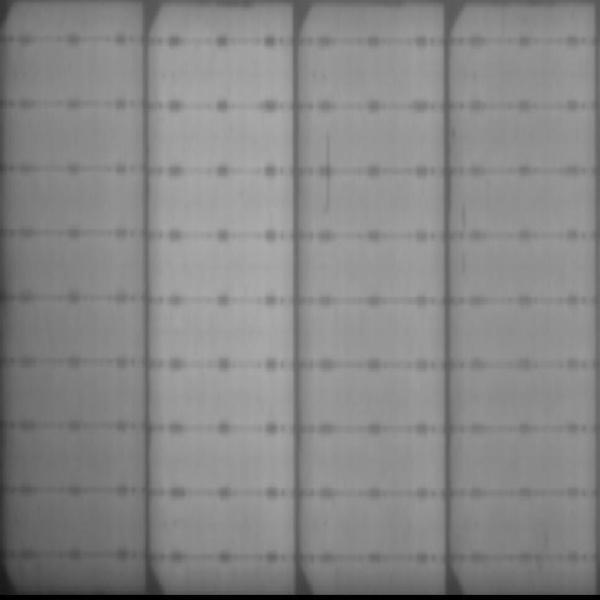scratch: (322, 132, 334, 209)
